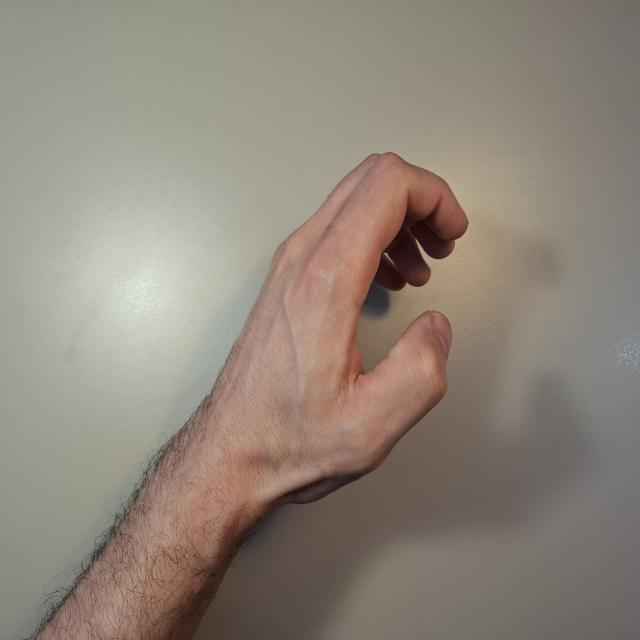glove_off: (200, 149, 472, 511)
